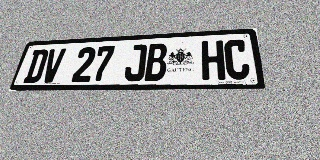2: (71, 47, 97, 82)
7: (90, 46, 115, 82)
B: (144, 43, 168, 81)
C: (224, 39, 251, 80)
D: (23, 49, 50, 83)
H: (201, 40, 225, 80)
J: (123, 44, 147, 81)
V: (40, 48, 66, 83)
